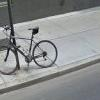Bicycle: (0, 23, 60, 80)
